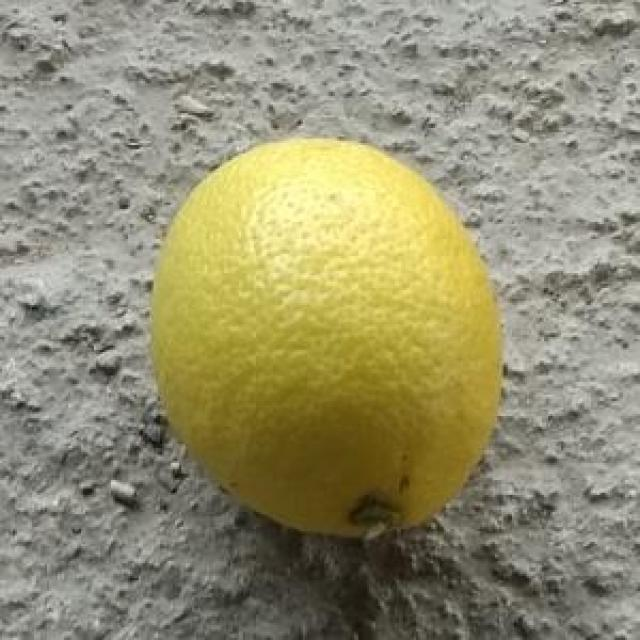lemon: (152, 138, 506, 540)
